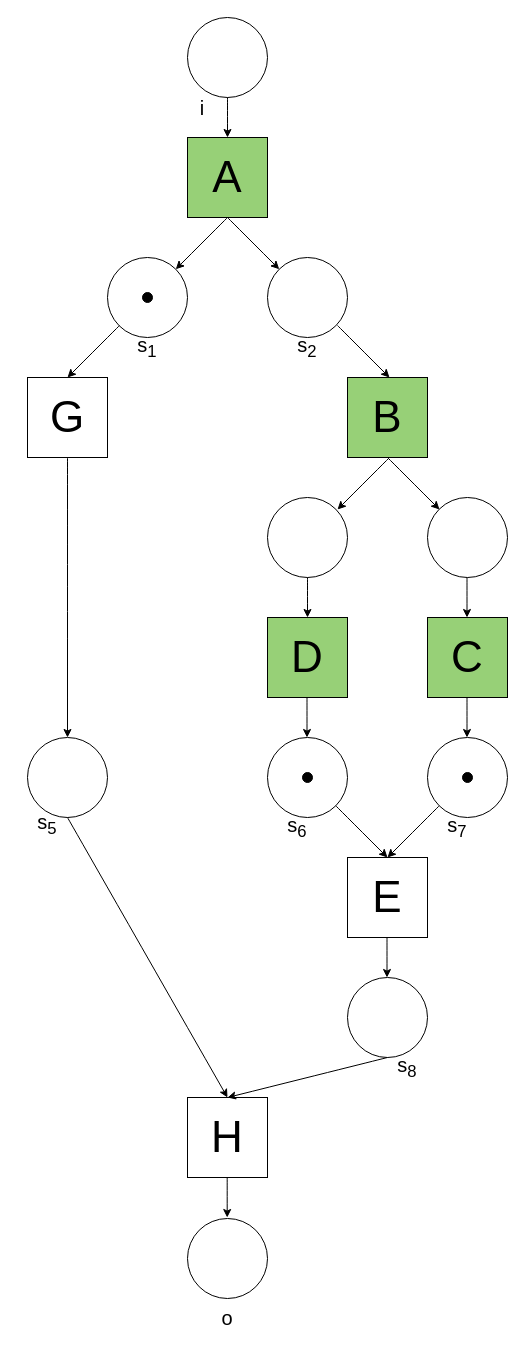
The diagram is 525 pixels wide and 1355 high, and some of its shapes have lost their labels. Each missing label, with the centre of its shape:
"s 3" goes at point (307, 537).
"s 4" goes at point (467, 537).
